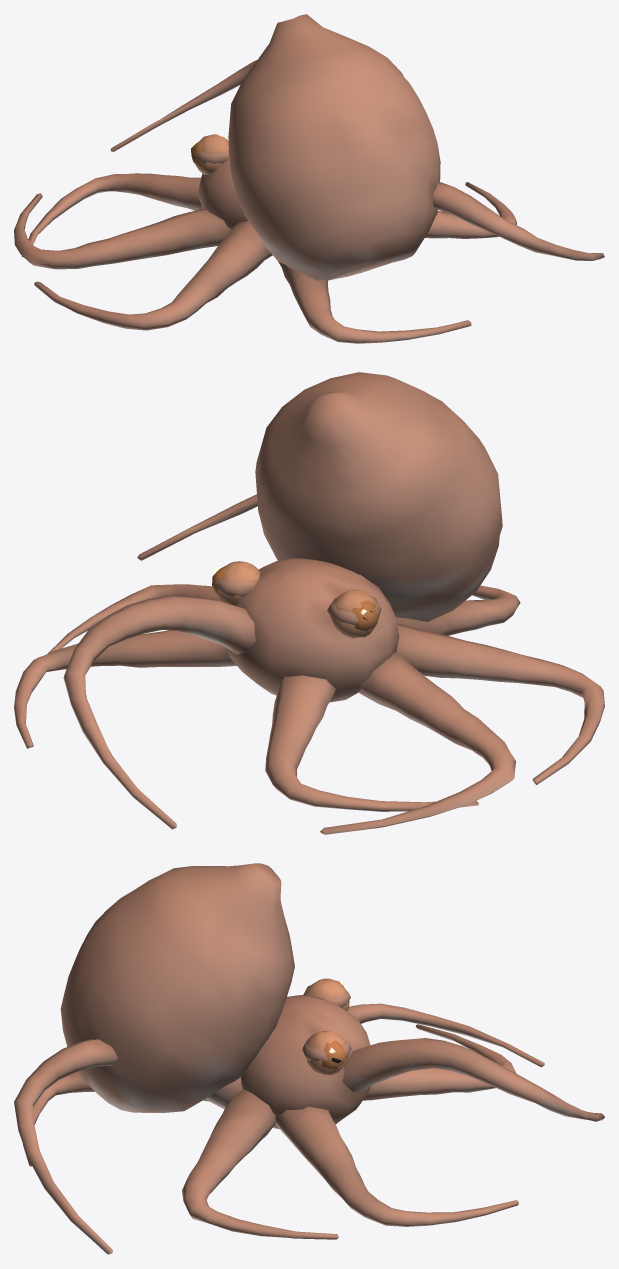
The model's file is octopus.glb.
The picture shows the model from 3 angles, top to bottom: view 1: azimuth 30°, elevation 25°; view 2: azimuth 150°, elevation 25°; view 3: azimuth 270°, elevation 25°; orthographic projection. The views are drawn at different scales.
Parts seen in each view (by area): view 1: octopus; view 2: octopus; view 3: octopus.
Part boxes in pixels (x1,y1,x2,y2): octopus: (14, 14, 604, 343); octopus: (14, 372, 604, 834); octopus: (14, 863, 604, 1254).
Bounding box in the file's own units: 0.6989 × 0.3634 × 0.7269.
